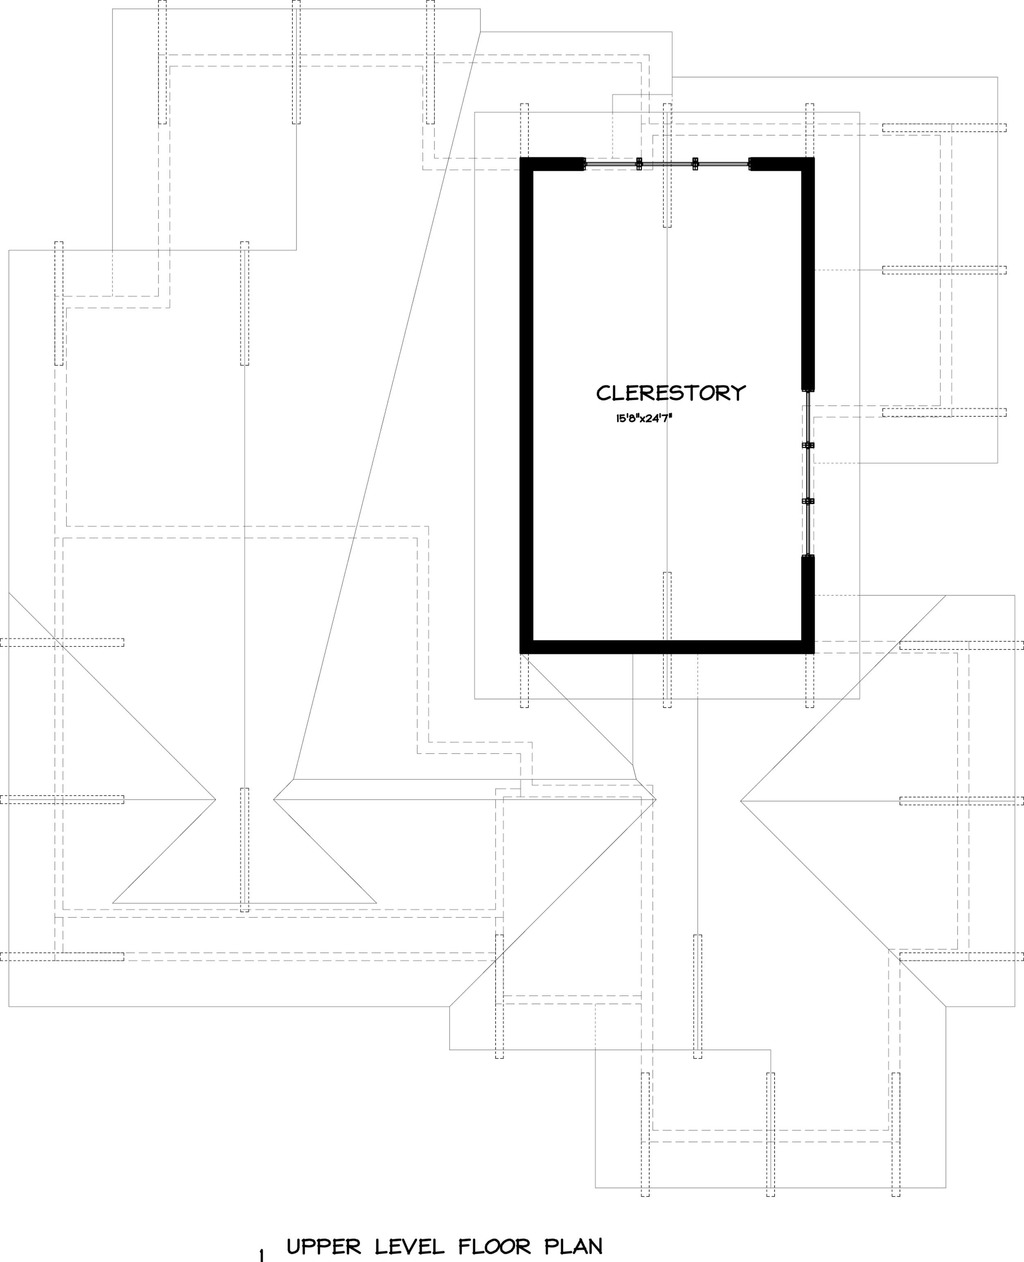window: (791, 380, 828, 559), (589, 147, 752, 174)
